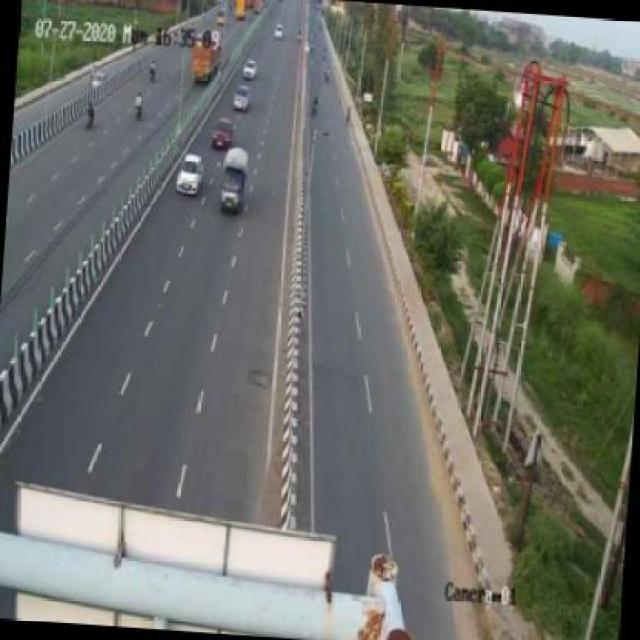car: (215, 145, 263, 217), (177, 160, 206, 198), (210, 117, 238, 154), (240, 60, 266, 86), (231, 83, 254, 109), (270, 23, 288, 45)
